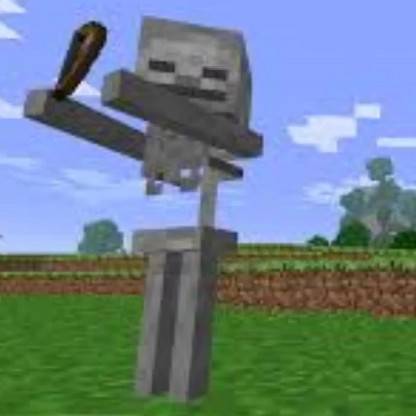skeleton: (90, 12, 269, 401)
